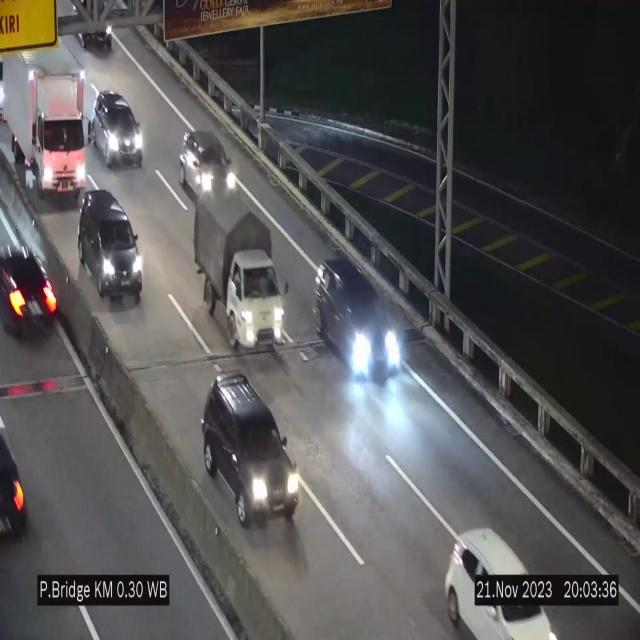Bus: (201, 372, 303, 528)
Car: (432, 509, 562, 640), (313, 254, 404, 384), (73, 188, 146, 303), (0, 230, 62, 358), (0, 397, 30, 555), (92, 89, 143, 173), (178, 130, 238, 200)
Truck: (192, 186, 291, 356), (2, 42, 94, 198)
